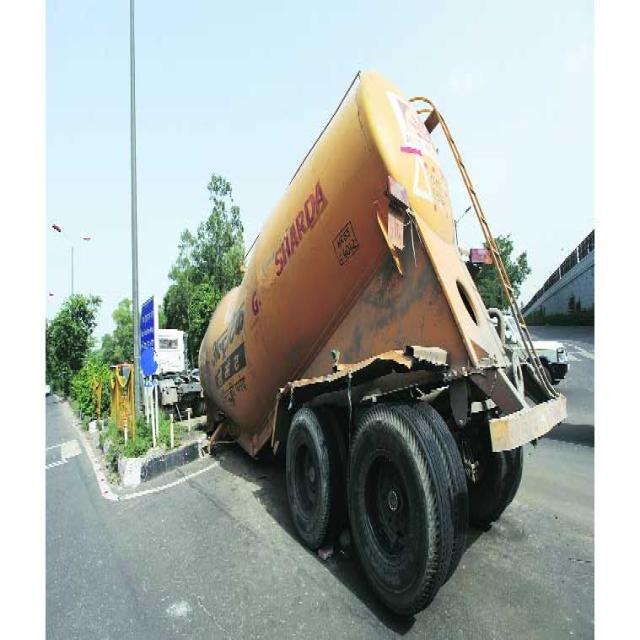accident: (200, 72, 566, 615)
